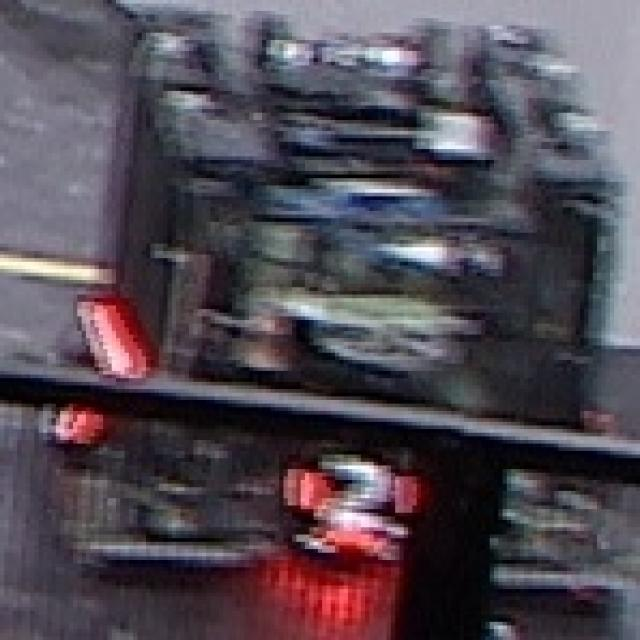R2: (284, 451, 416, 531)
